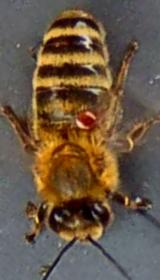varroa_mite: (65, 100, 110, 136)
